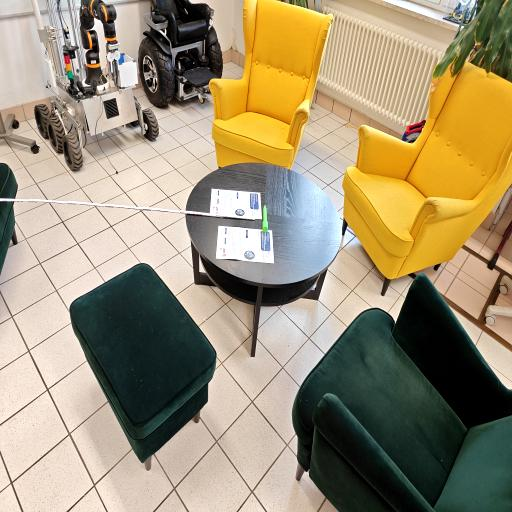Probe-Detection: (262, 205, 268, 232)
